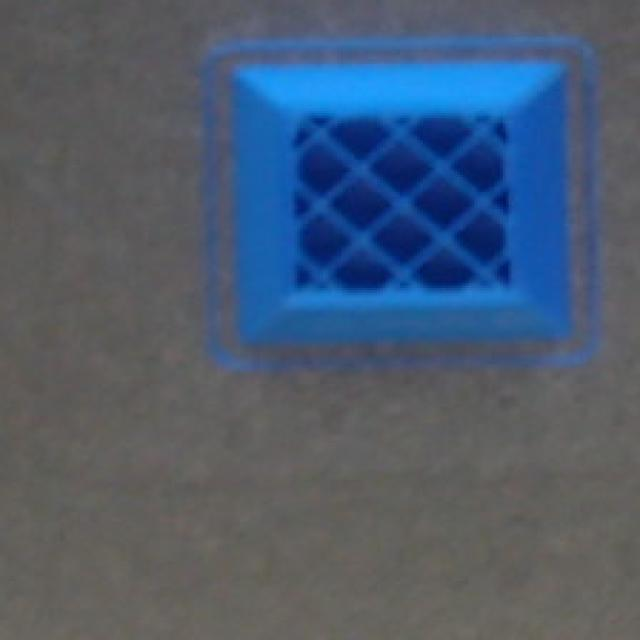noMistake: (209, 39, 597, 364)
